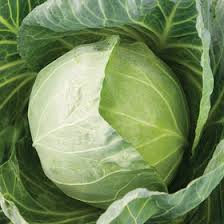cabbage: (25, 36, 196, 207)
